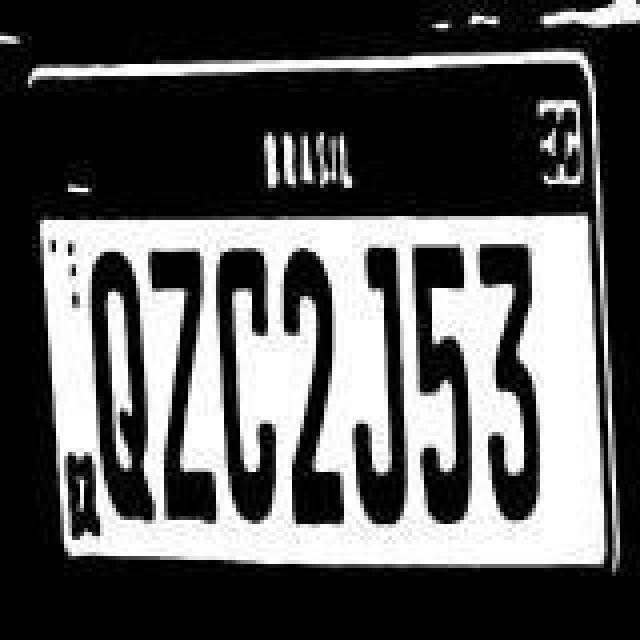2: (278, 242, 346, 542)
3: (482, 234, 542, 526)
5: (408, 228, 472, 540)
C: (216, 228, 280, 524)
J: (350, 244, 410, 532)
Q: (86, 236, 154, 532)
Z: (150, 224, 218, 536)
